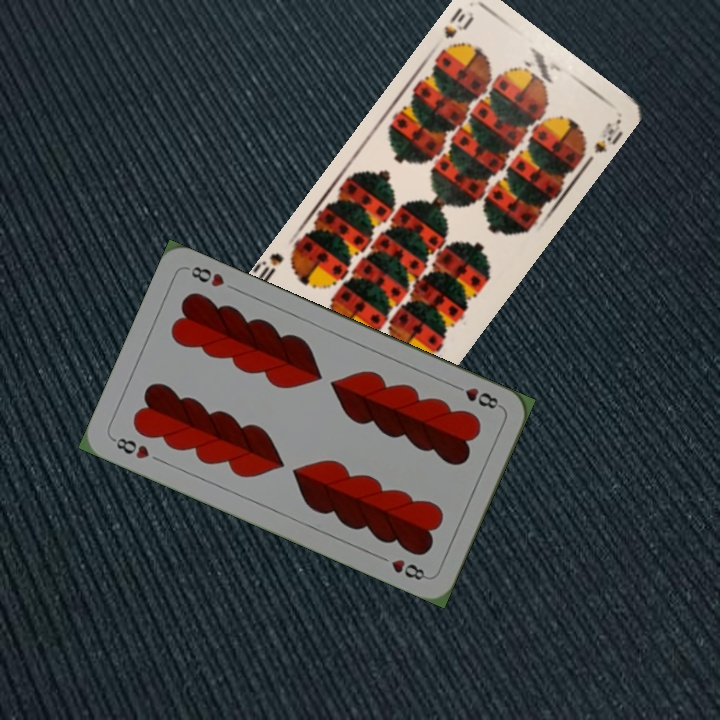H8: (448, 380, 504, 412), (108, 433, 152, 462)
S10: (435, 3, 477, 56)
